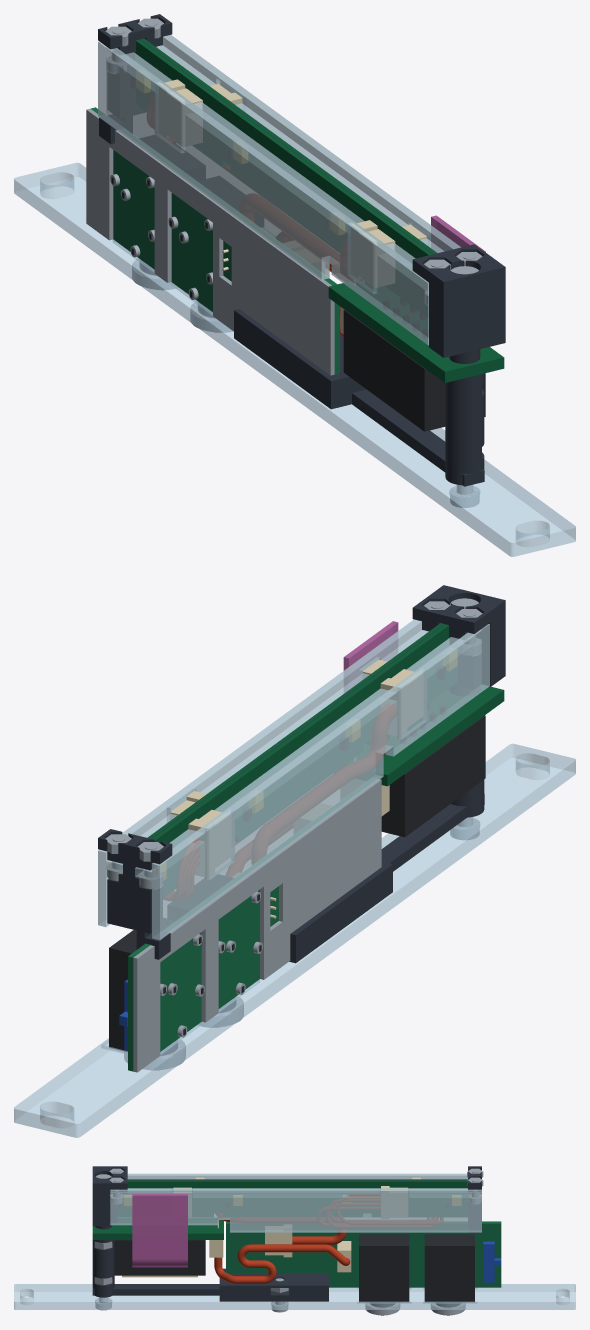
Rendered from zudo_led_block_A7_2hp_assembled.glb.
3 renders of one model, top to bottom at view 1: azimuth 30°, elevation 25°; view 2: azimuth 150°, elevation 25°; view 3: azimuth 270°, elevation 25°, orthographic. The views are drawn at different scales.
Visible parts, largest first — view 1: left_diffuser, front_pmma_A7, solder_face_low_profile_zone, left_leaf_pcb_A5, spine_PETG, controller_pcb_A7, top_leaf_adapter_cap, adapter_C5665_keyed_header, right_diffuser, power_adapter_pcb_A5, bottom_leaf_cap, left_J1_SH4_mated (+6 smaller); view 2: left_diffuser, front_pmma_A7, solder_face_low_profile_zone, left_leaf_pcb_A5, controller_pcb_A7, right_diffuser, adapter_C5665_keyed_header, spine_PETG, top_leaf_adapter_cap, power_adapter_pcb_A5, bottom_leaf_cap, controller_to_left_leaf_sh4 (+7 smaller); view 3: right_diffuser, front_pmma_A7, right_leaf_pcb_A5, controller_pcb_A7, spine_PETG, IDC_ribbon_R3_side_exit_SCENARIO, jack_thru_PJ-324M, jack_in_PJ-324M, left_diffuser, adapter_to_controller_power, adapter_C5665_keyed_header, top_leaf_adapter_cap (+18 smaller).
Part boxes in pixels (x1=…): left_diffuser: x1=98, y1=41, x2=428, y2=345; front_pmma_A7: x1=14, y1=162, x2=575, y2=556; solder_face_low_profile_zone: x1=86, y1=108, x2=334, y2=375; left_leaf_pcb_A5: x1=135, y1=39, x2=432, y2=317; spine_PETG: x1=234, y1=309, x2=484, y2=486; controller_pcb_A7: x1=91, y1=107, x2=339, y2=374; top_leaf_adapter_cap: x1=412, y1=244, x2=505, y2=357; adapter_C5665_keyed_header: x1=343, y1=299, x2=485, y2=431; right_diffuser: x1=156, y1=35, x2=460, y2=252; power_adapter_pcb_A5: x1=328, y1=280, x2=504, y2=382; bottom_leaf_cap: x1=98, y1=14, x2=172, y2=118; left_J1_SH4_mated: x1=351, y1=220, x2=395, y2=287; left_diffuser: x1=135, y1=624, x2=489, y2=940; front_pmma_A7: x1=14, y1=743, x2=575, y2=1137; solder_face_low_profile_zone: x1=133, y1=779, x2=381, y2=1072; left_leaf_pcb_A5: x1=152, y1=624, x2=456, y2=896; controller_pcb_A7: x1=128, y1=778, x2=375, y2=1071; right_diffuser: x1=98, y1=619, x2=428, y2=926; adapter_C5665_keyed_header: x1=381, y1=704, x2=485, y2=837; spine_PETG: x1=289, y1=779, x2=484, y2=963; top_leaf_adapter_cap: x1=412, y1=585, x2=505, y2=689; power_adapter_pcb_A5: x1=345, y1=685, x2=504, y2=786; bottom_leaf_cap: x1=98, y1=829, x2=172, y2=933; controller_to_left_leaf_sh4: x1=252, y1=704, x2=396, y2=864; right_diffuser: x1=110, y1=1188, x2=481, y2=1232; front_pmma_A7: x1=14, y1=1284, x2=575, y2=1309; right_leaf_pcb_A5: x1=118, y1=1180, x2=467, y2=1216; controller_pcb_A7: x1=226, y1=1222, x2=501, y2=1287; spine_PETG: x1=92, y1=1240, x2=328, y2=1301; IDC_ribbon_R3_side_exit_SCENARIO: x1=132, y1=1194, x2=187, y2=1267; jack_thru_PJ-324M: x1=424, y1=1234, x2=474, y2=1315; jack_in_PJ-324M: x1=359, y1=1234, x2=409, y2=1315; left_diffuser: x1=127, y1=1173, x2=467, y2=1179; adapter_to_controller_power: x1=214, y1=1244, x2=350, y2=1283; adapter_C5665_keyed_header: x1=114, y1=1240, x2=205, y2=1275; top_leaf_adapter_cap: x1=92, y1=1166, x2=127, y2=1226.
Bounding box in the file's own units: 11.8 × 33.8 × 129.
